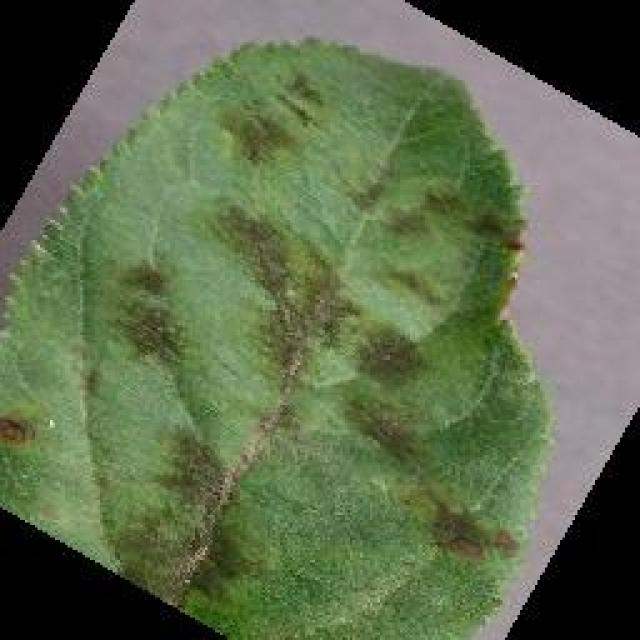apple scab disease: (0, 32, 555, 638)
